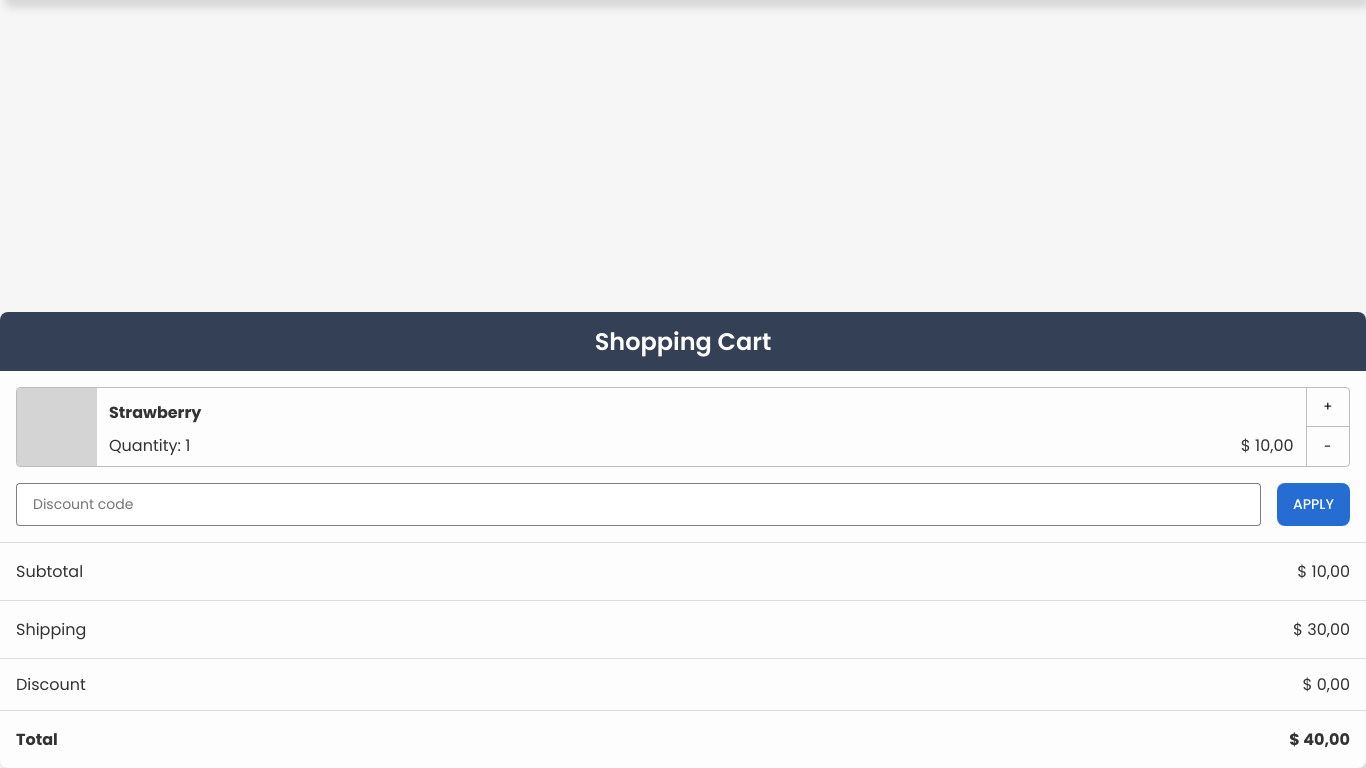
Test: <Cart> › adds voucher
This screenshot has width=1366, height=768.
(page scrolled)
Type "#50OFF" into the field with placeholder "Discount code" at (638, 504), box [16,483,1261,526]
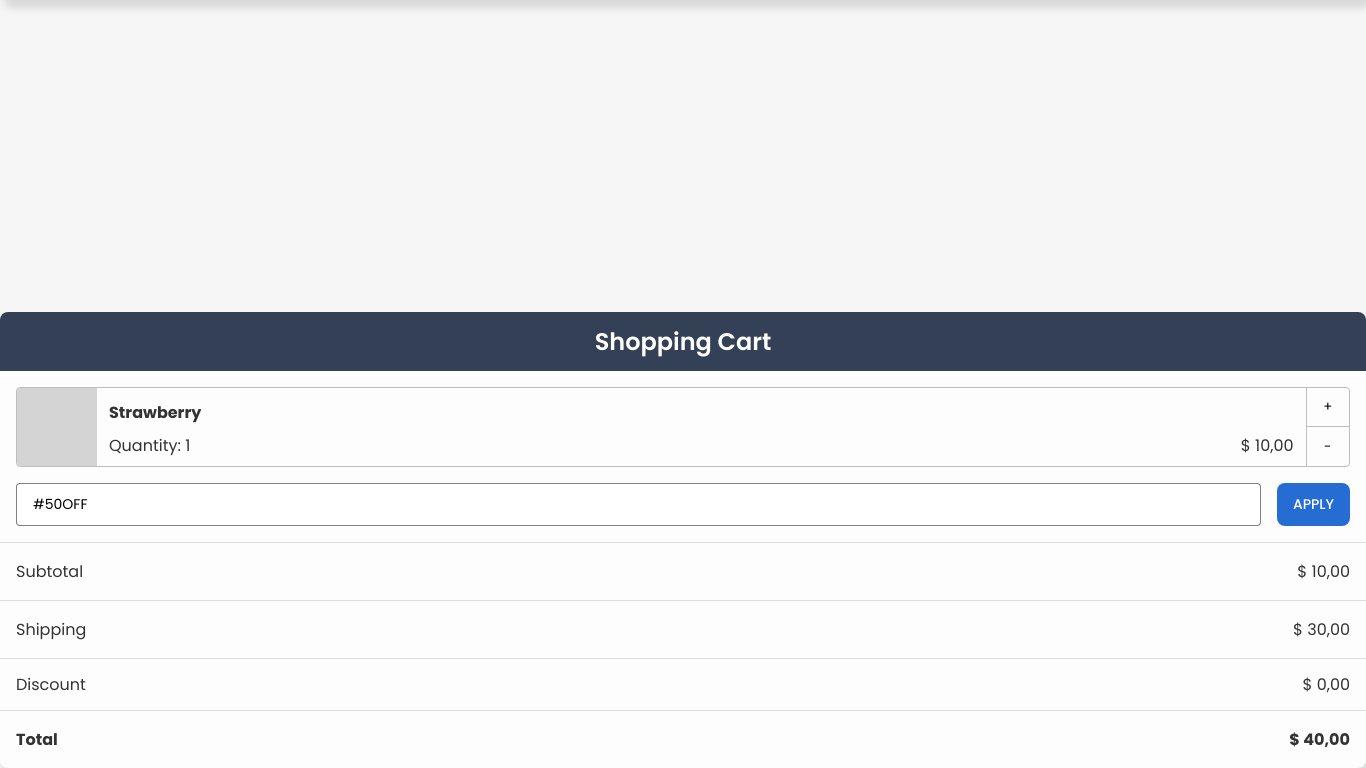
Submit the form, box [16,483,1350,526]
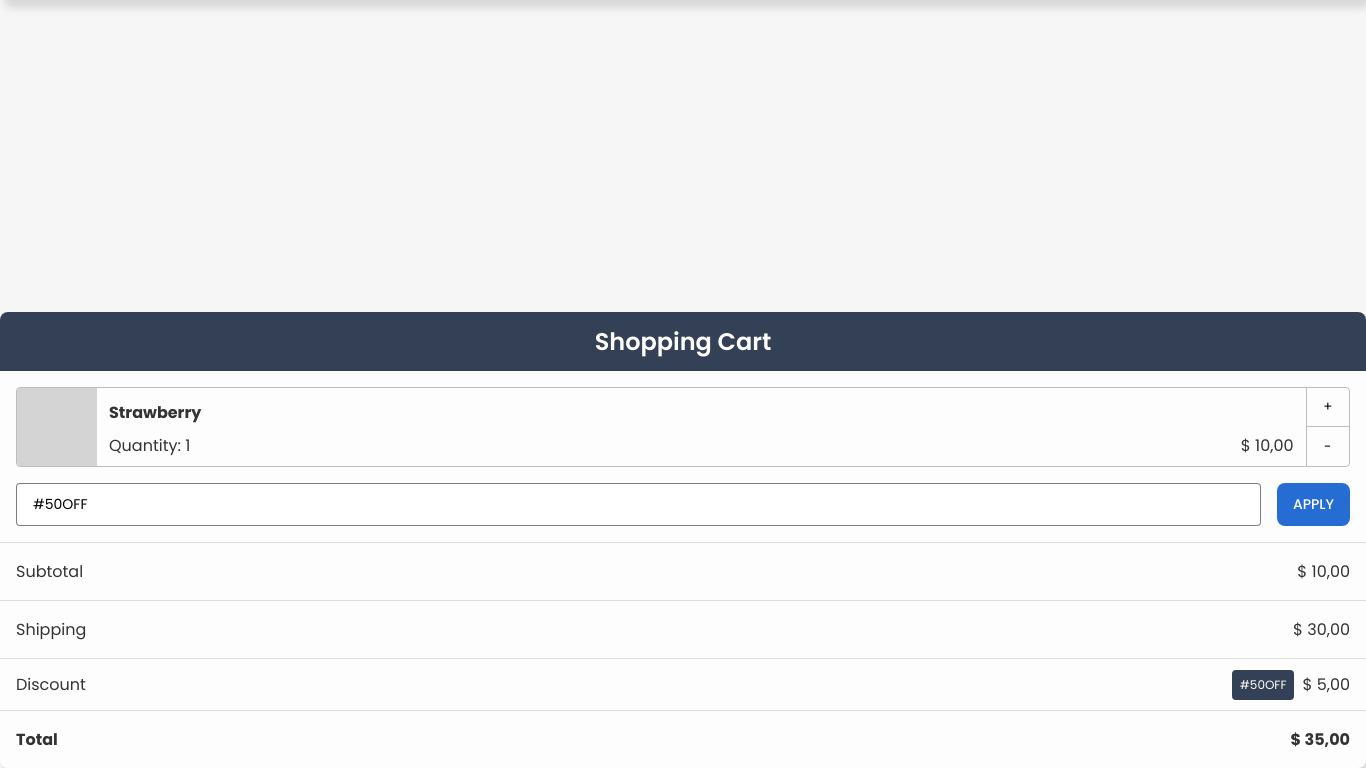
expect the text "#50OFF" is shown: met, box [1232,670,1294,700]
